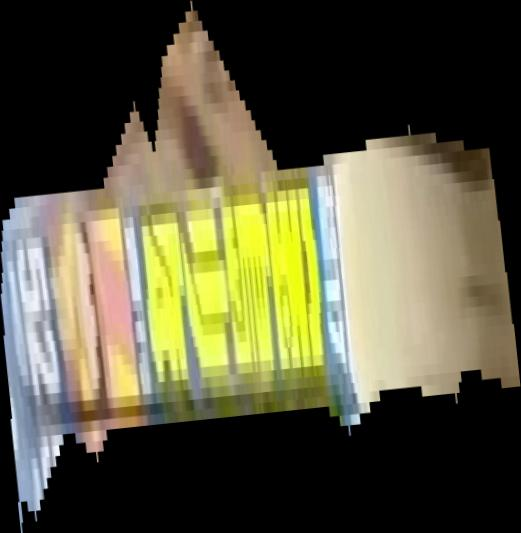flat: (1, 1, 521, 533)
